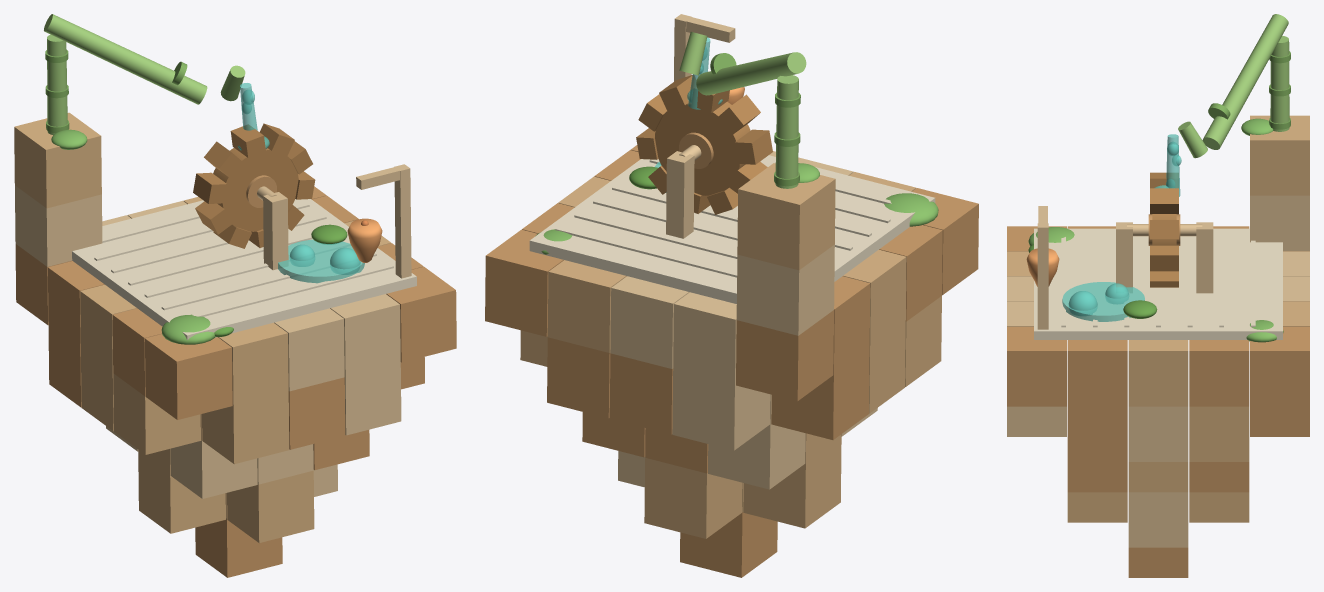
Rendered from zen-garden.glb.
3 views of the same model, side by side, from view 1: azimuth 30°, elevation 25°; view 2: azimuth 150°, elevation 25°; view 3: azimuth 270°, elevation 25° (orthographic). The views are drawn at different scales.
Parts seen in each view (by area): view 1: sand_bed, block_-2_2_0, riser_b, riser_a, block_-1_2_1, tip_0_1, block_2_2_0, block_1_2_0, block_0_2_0, block_-1_2_0, block_-2_1_1, tip_-1_0 (+38 smaller); view 2: sand_bed, riser_b, riser_a, block_-2_-2_0, block_-1_-2_1, tip_0_-1, block_2_-2_0, block_0_-2_0, block_1_-2_0, block_-1_-2_0, tip_-1_0, block_-2_-1_1 (+32 smaller); view 3: sand_bed, block_2_2_0, block_2_-2_0, riser_b, block_2_0_0, block_2_1_0, block_2_-1_0, tip_1_0, block_2_-1_1, block_2_1_1, block_2_0_1, riser_a (+37 smaller).
Part boxes in pixels (x1,y1,x2,y2): sand_bed: (72,199,416,340); block_-2_2_0: (145,334,232,419); riser_b: (14,112,101,208); riser_a: (15,185,102,266); block_-1_2_1: (202,391,289,464); tip_0_1: (227,470,314,542); block_2_2_0: (386,267,456,362); block_1_2_0: (330,294,400,376); block_0_2_0: (274,308,344,391); block_-1_2_0: (218,322,288,405); block_-2_1_1: (113,373,200,454); tip_-1_0: (138,452,225,533); sand_bed: (529,155,935,303); riser_b: (737,163,835,270); riser_a: (736,244,834,335); block_-2_-2_0: (736,310,833,401); block_-1_-2_1: (672,369,770,450); tip_0_-1: (644,458,742,538); block_2_-2_0: (485,229,563,336); block_0_-2_0: (610,276,689,368); block_1_-2_0: (547,260,626,352); block_-1_-2_0: (673,292,736,384); tip_-1_0: (743,437,841,528); block_-2_-1_1: (771,349,869,439); sand_bed: (1034,228,1282,339); block_2_2_0: (1007,326,1066,406); block_2_-2_0: (1250,326,1309,406); riser_b: (1250,115,1309,195); block_2_0_0: (1128,340,1188,406); block_2_1_0: (1067,340,1127,406); block_2_-1_0: (1189,340,1249,406); tip_1_0: (1128,492,1188,547); block_2_-1_1: (1189,406,1249,461); block_2_1_1: (1067,406,1127,461); block_2_0_1: (1128,406,1188,461); riser_a: (1250,195,1309,250).
Size of the model in its own units: 2.52 by 4.5 by 2.49.
